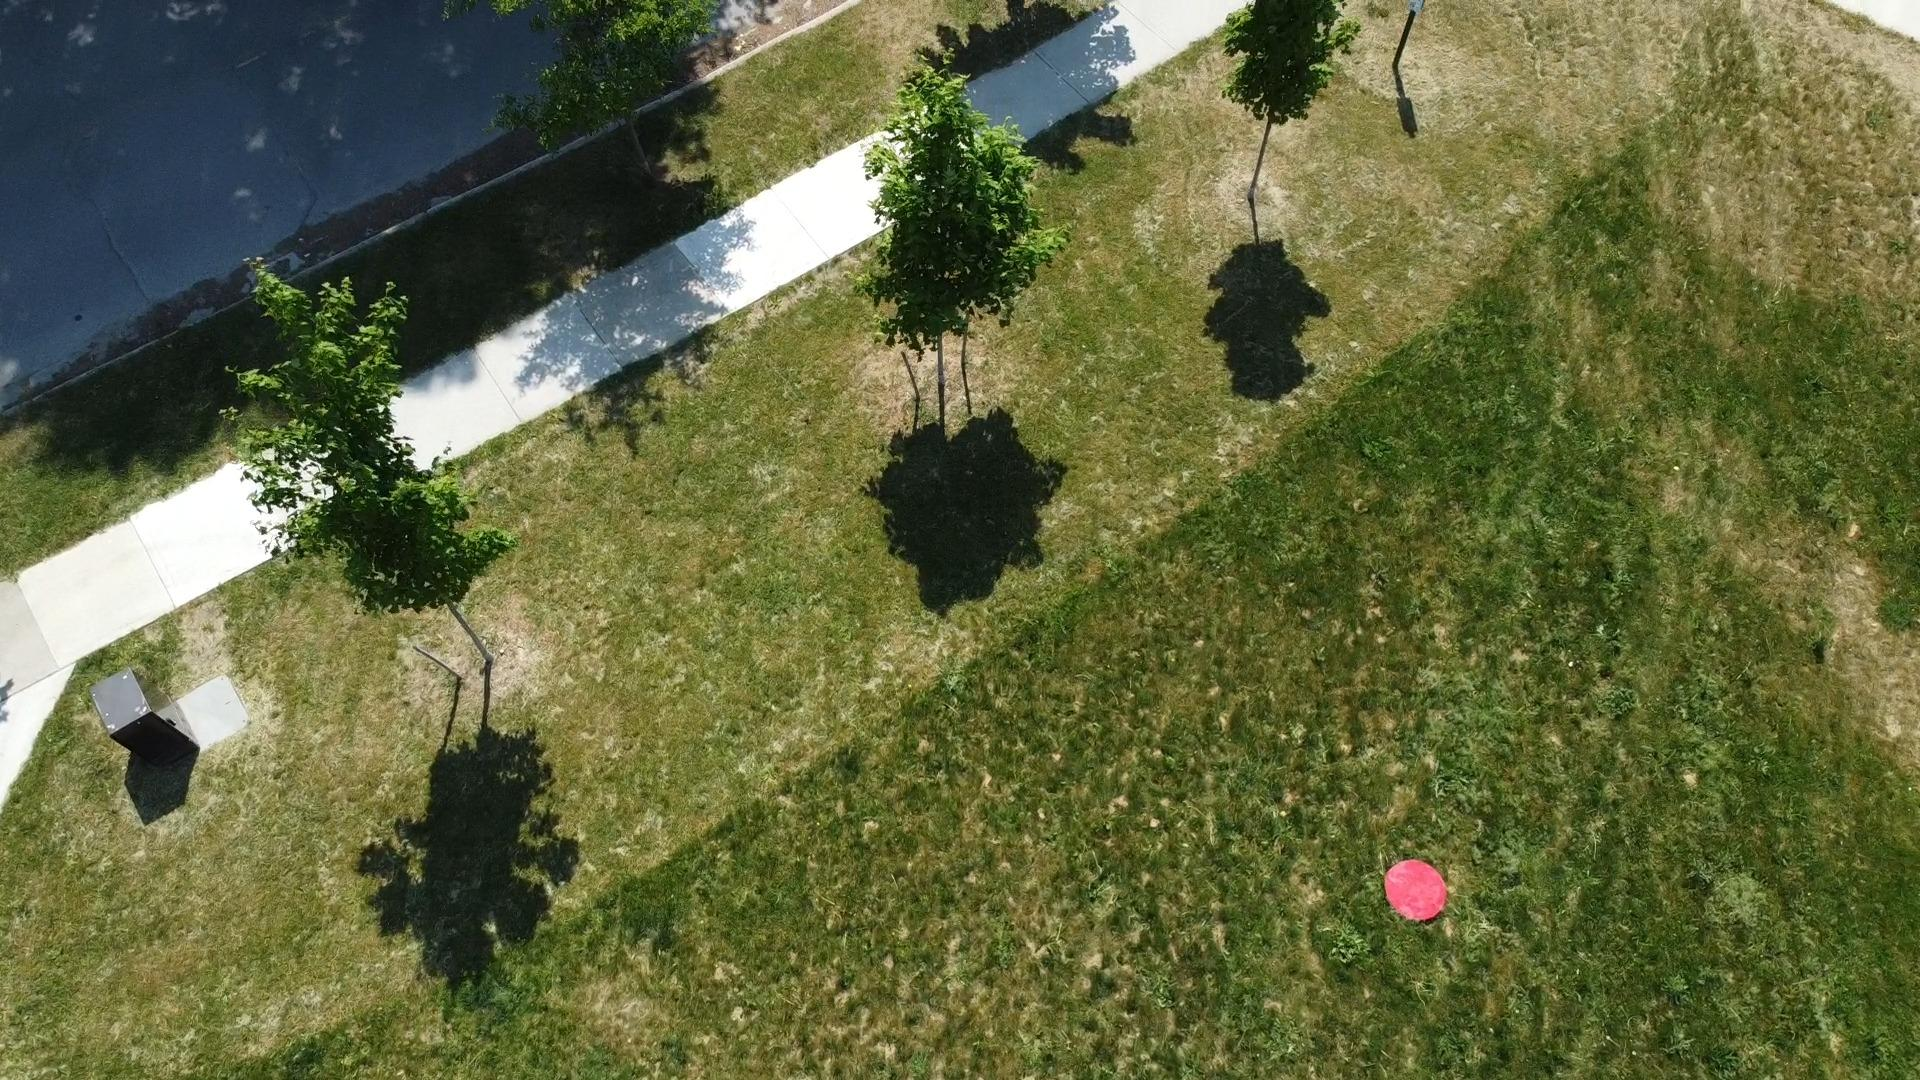Red: (1382, 857, 1449, 927)
